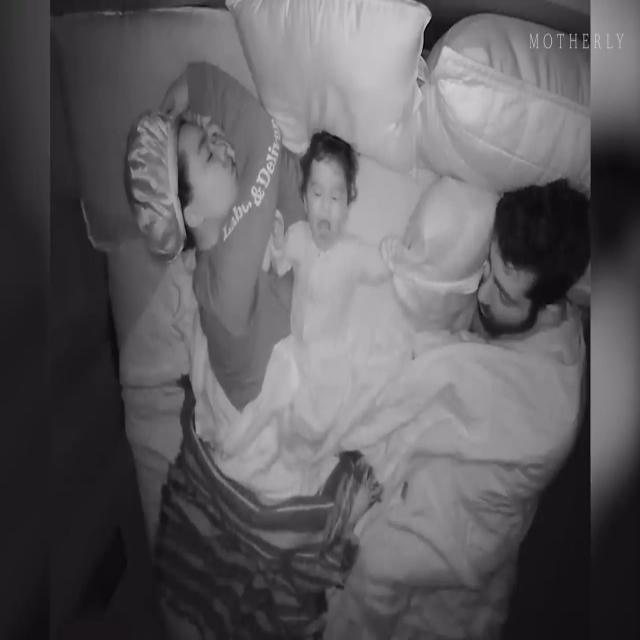baby: (271, 126, 402, 346)
